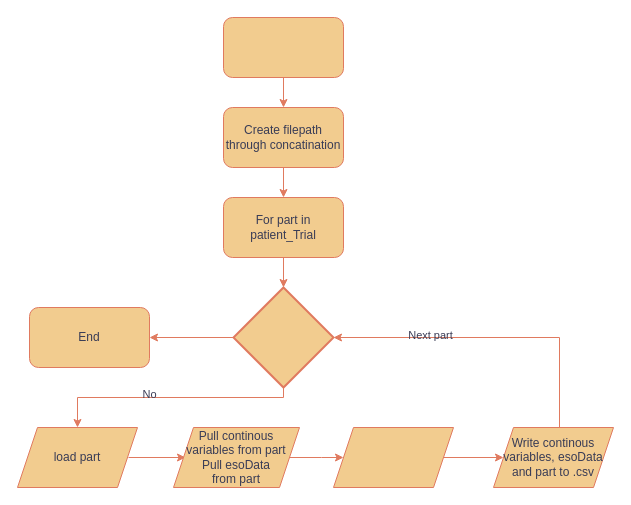
The diagram is 631 pixels wide and 505 high, and some of its shapes have lost their labels. Each missing label, with the centre of its shape:
"Clean part" goes at pixel 393 457.
"Input: patientNumber" goes at pixel 283 47.
"last part" goes at pixel 283 337.
